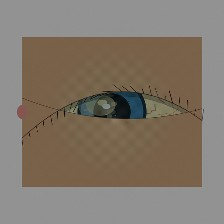corneal_ulcer: (77, 86, 125, 124)
